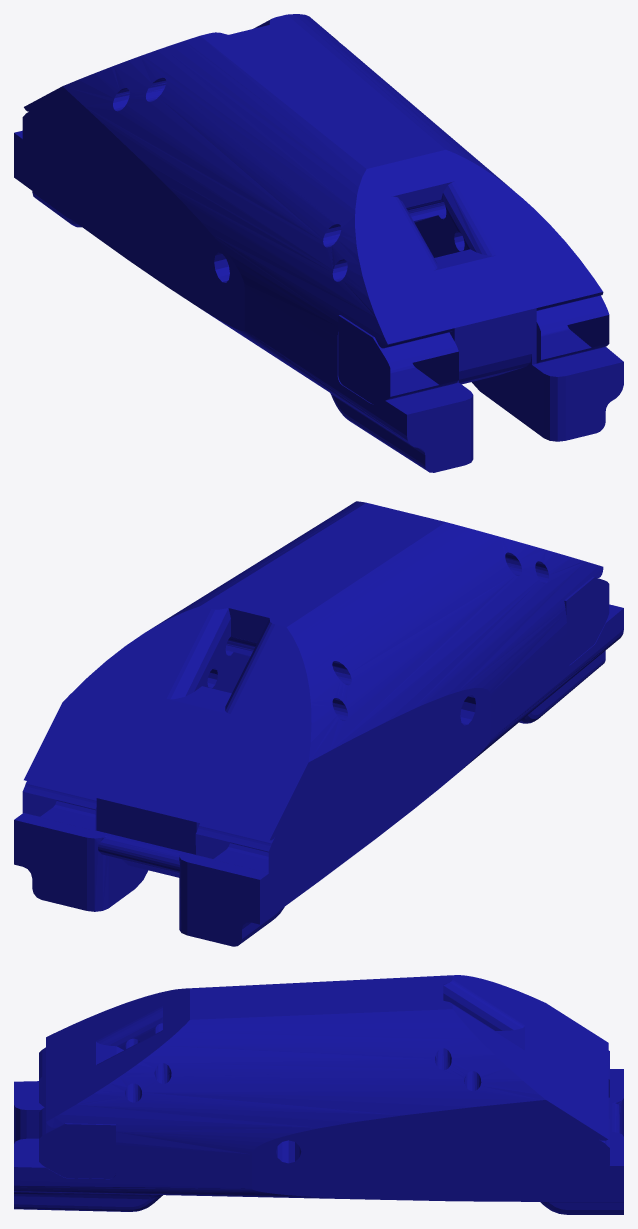
Rendered from fingerBase.obj.
The picture shows the model from 3 angles, top to bottom: view 1: azimuth 30°, elevation 25°; view 2: azimuth 150°, elevation 25°; view 3: azimuth 270°, elevation 25°; orthographic projection. The views are drawn at different scales.
Parts seen in each view (by area): view 1: FingerAssem3; view 2: FingerAssem3; view 3: FingerAssem3.
Part boxes in pixels (x1,y1,x2,y2): FingerAssem3: (14, 14, 623, 472); FingerAssem3: (14, 501, 623, 946); FingerAssem3: (14, 975, 623, 1214).
Bounding box in the file's own units: 0.027 × 0.024 × 0.0719.
